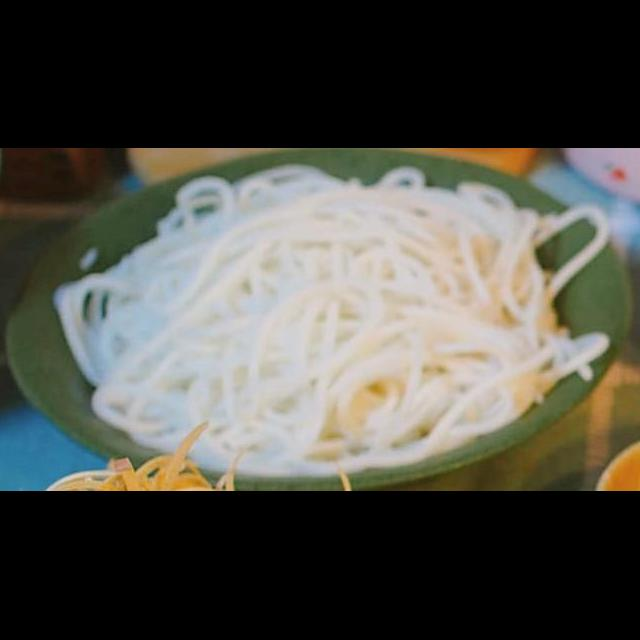bun: (40, 160, 616, 482)
